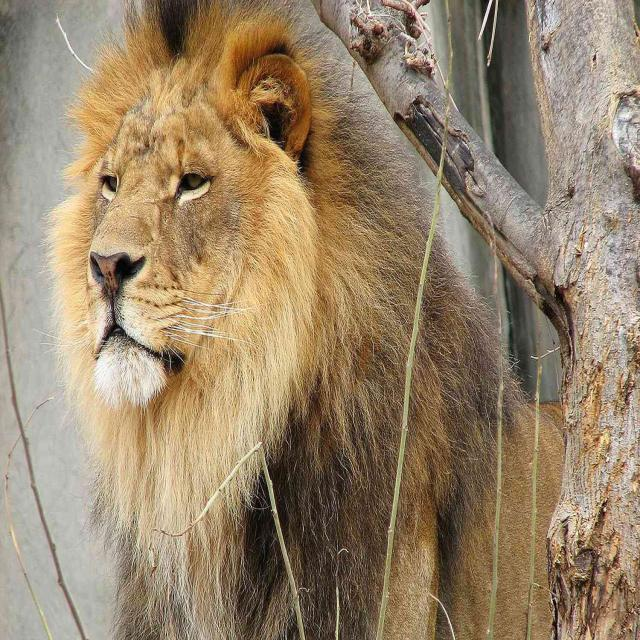lions: (13, 33, 640, 639)
